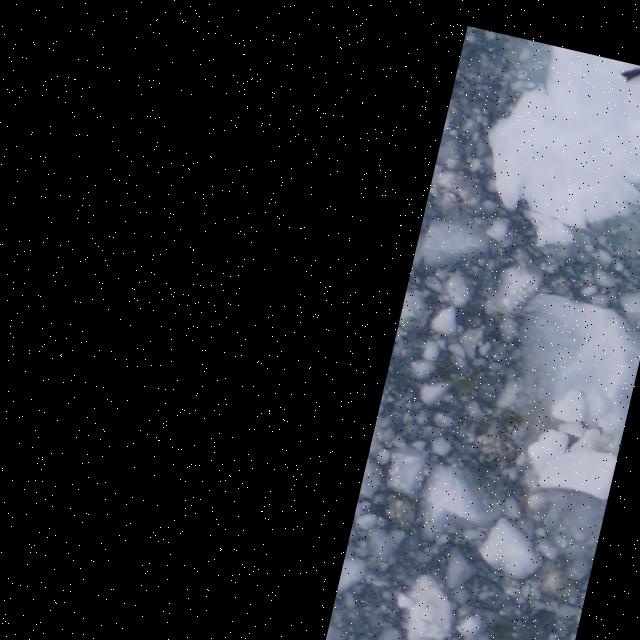seal: (613, 60, 640, 89)
